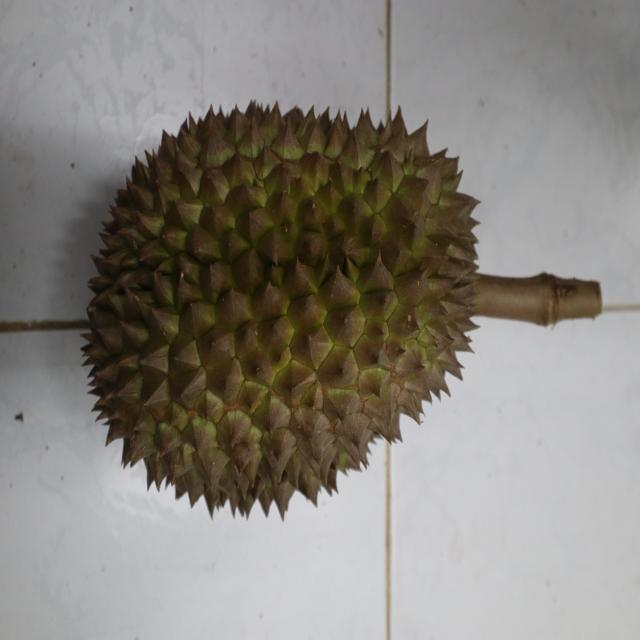mature: (82, 101, 484, 522)
